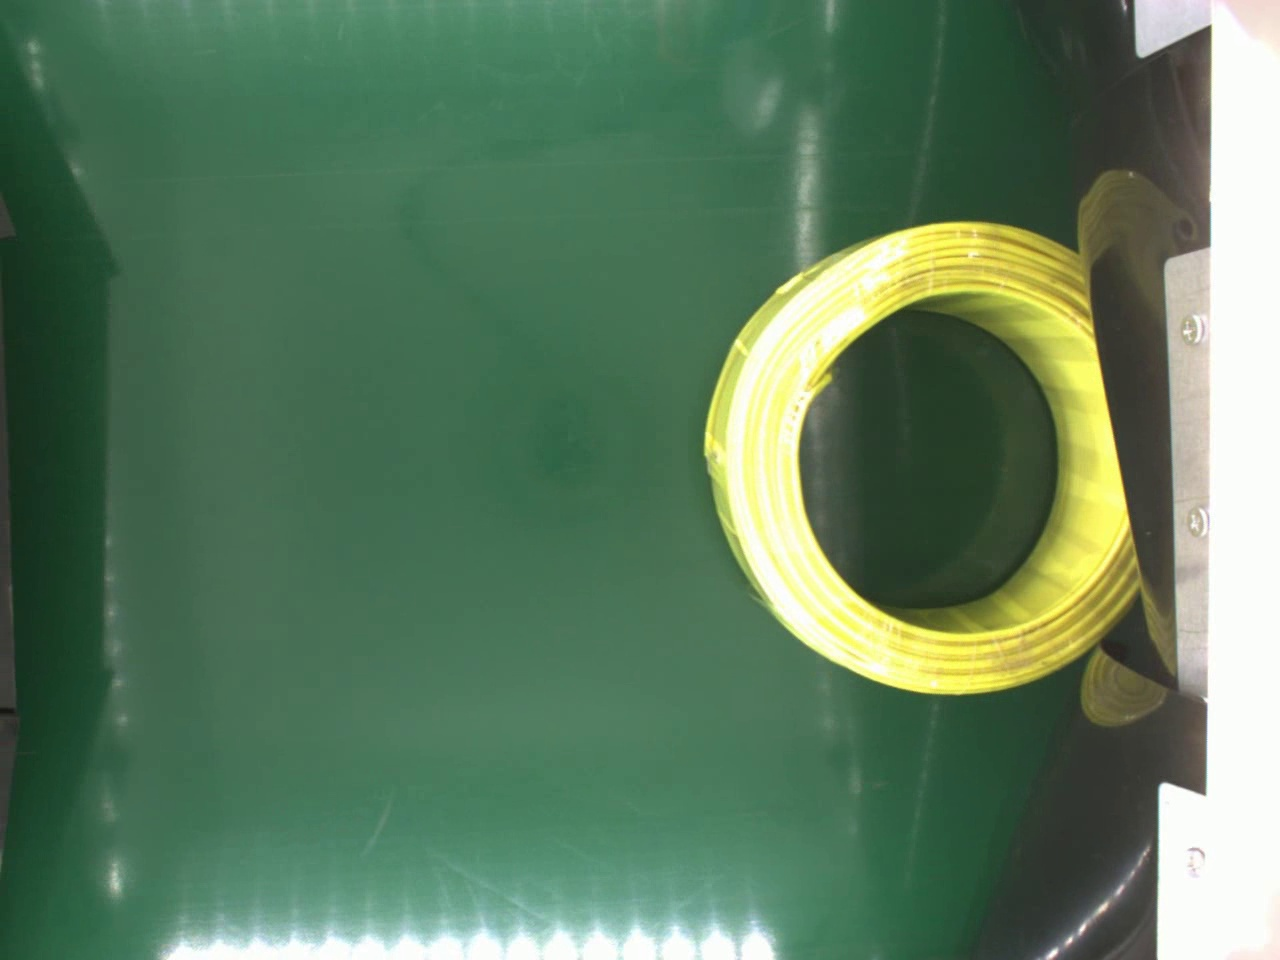yellow: (700, 213, 1143, 698)
